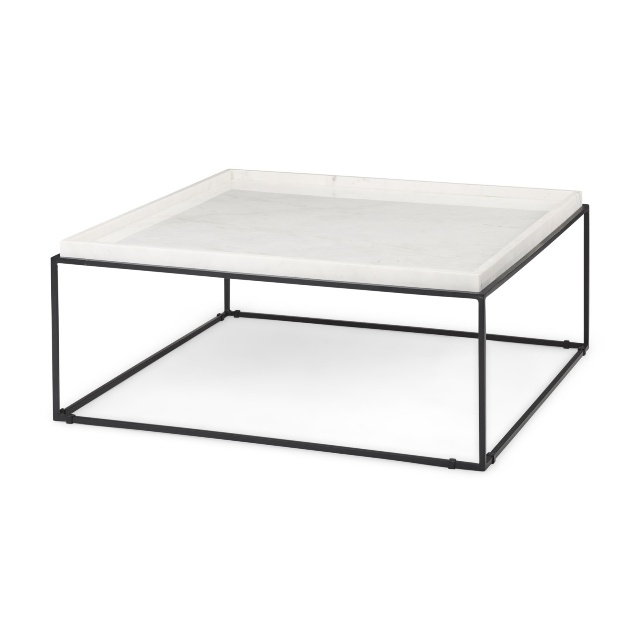obstacle: (51, 169, 589, 470)
